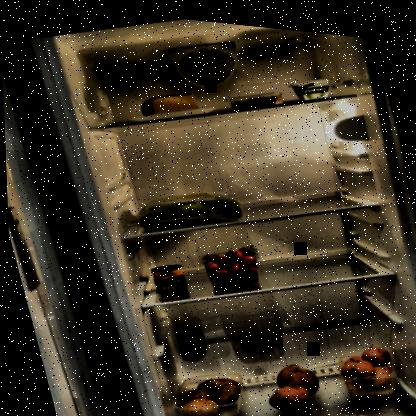cheese: (136, 80, 203, 121)
corn: (148, 257, 187, 294)
onion: (330, 330, 401, 397)
potato: (168, 362, 248, 415)
shrimp: (227, 83, 285, 113)
spinach: (120, 171, 253, 243)
strawberries: (197, 234, 265, 289)
sweet_potato: (255, 349, 326, 415)
